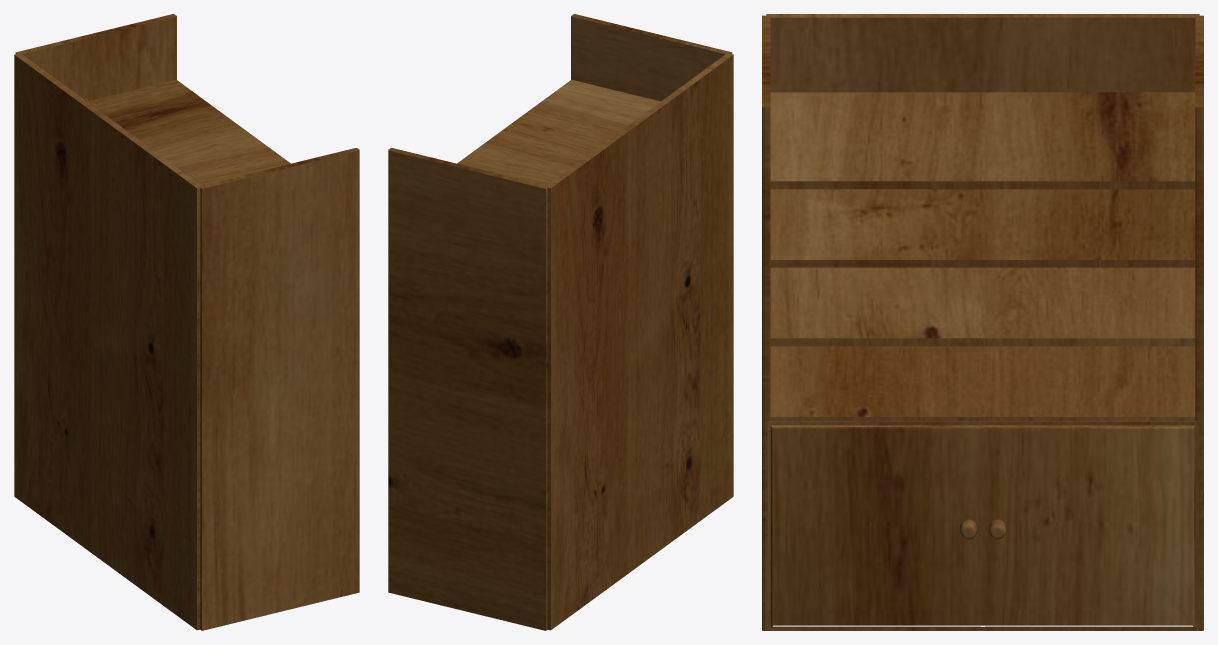
File: Bookshelf.fbx
3 renders of one model, left to right at view 1: azimuth 30°, elevation 25°; view 2: azimuth 150°, elevation 25°; view 3: azimuth 270°, elevation 25°, orthographic. The views are drawn at different scales.
Parts seen in each view (by area): view 1: BookShelf; view 2: BookShelf; view 3: BookShelf.
Boxes of the visible parts, x1,y1,x2,y2 form: BookShelf: (14, 14, 359, 630); BookShelf: (388, 14, 733, 630); BookShelf: (762, 14, 1203, 630).
Size of the model in its own units: 82 by 200 by 153.
Materials: 1 (1 with a texture image).
